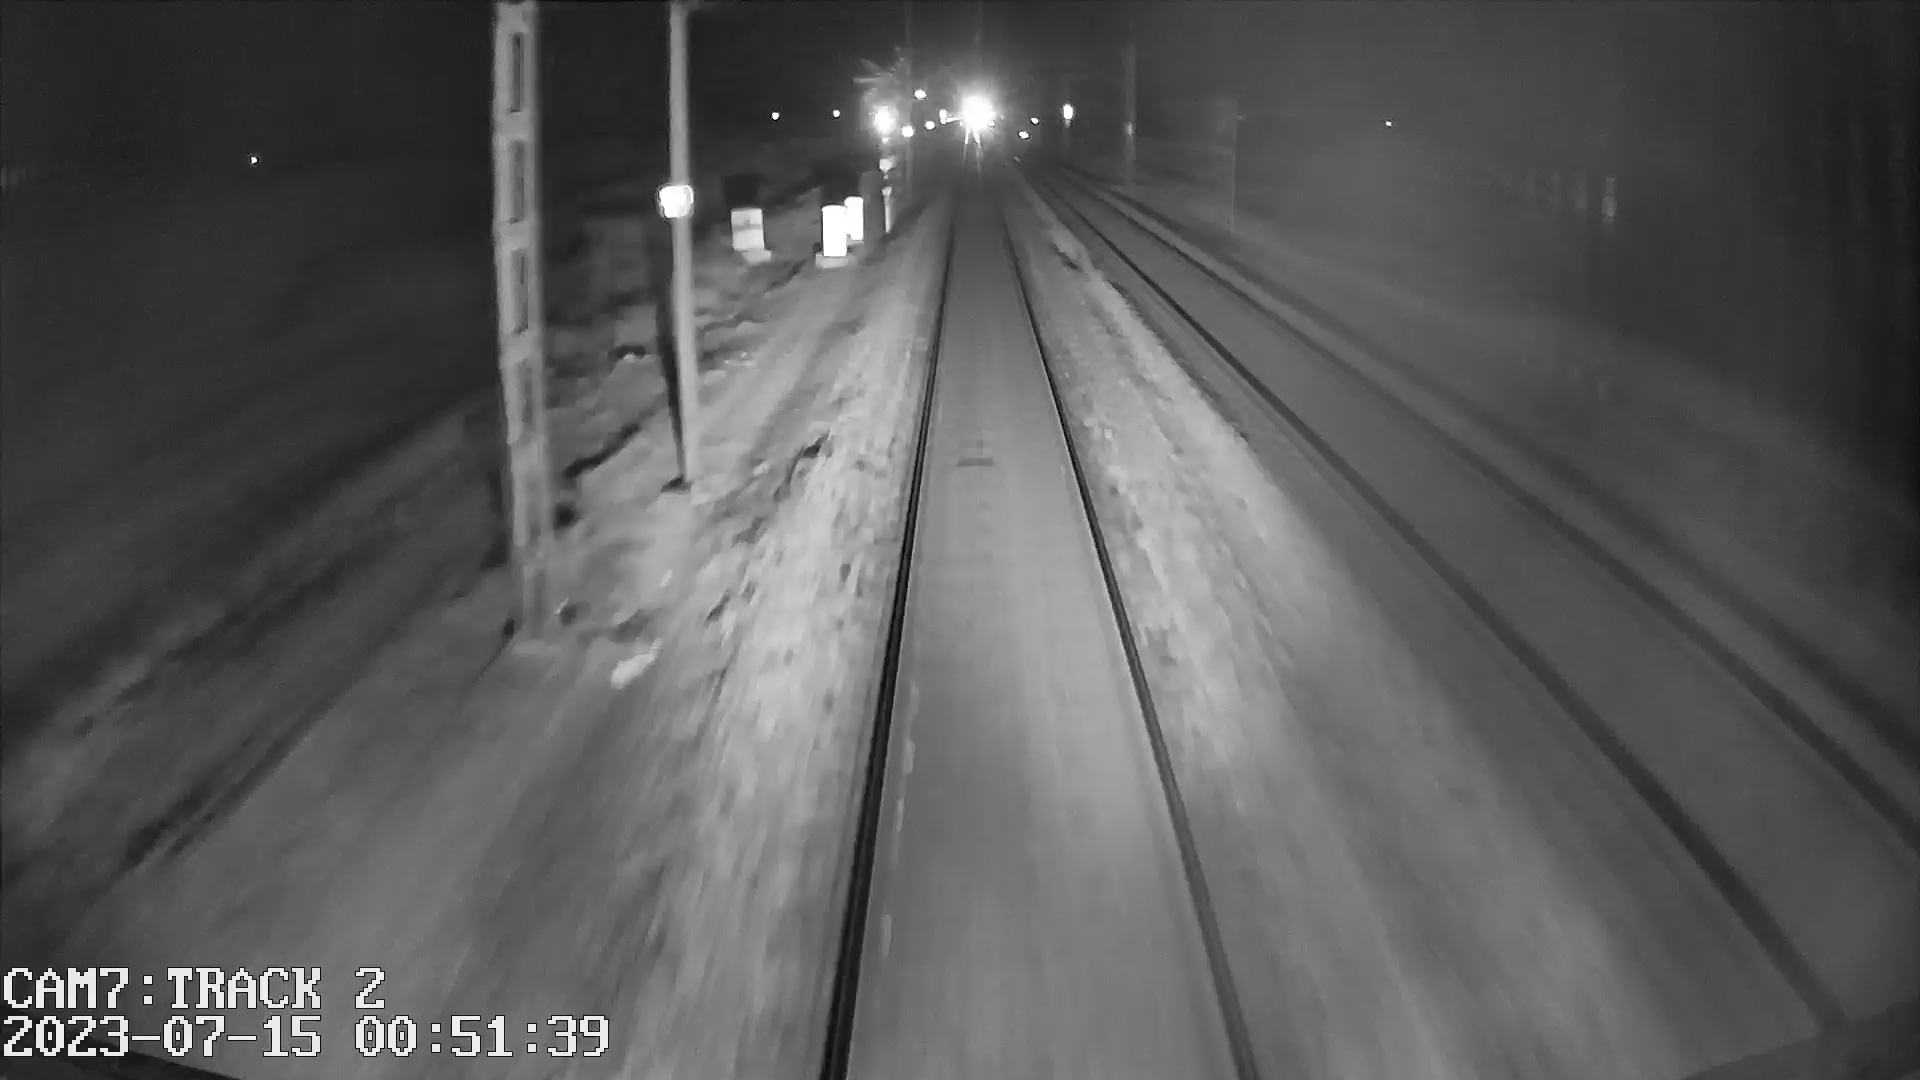track1: (838, 185, 1247, 1051)
track2: (1068, 196, 1903, 940)
